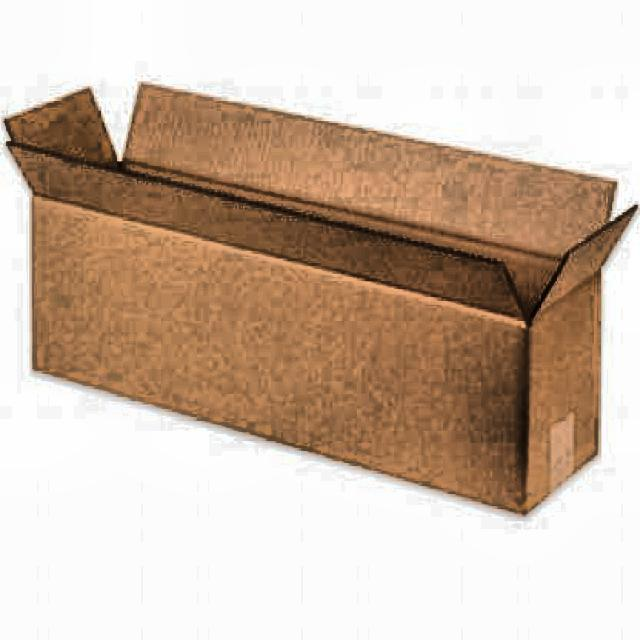Cardbox: (0, 64, 640, 539)
